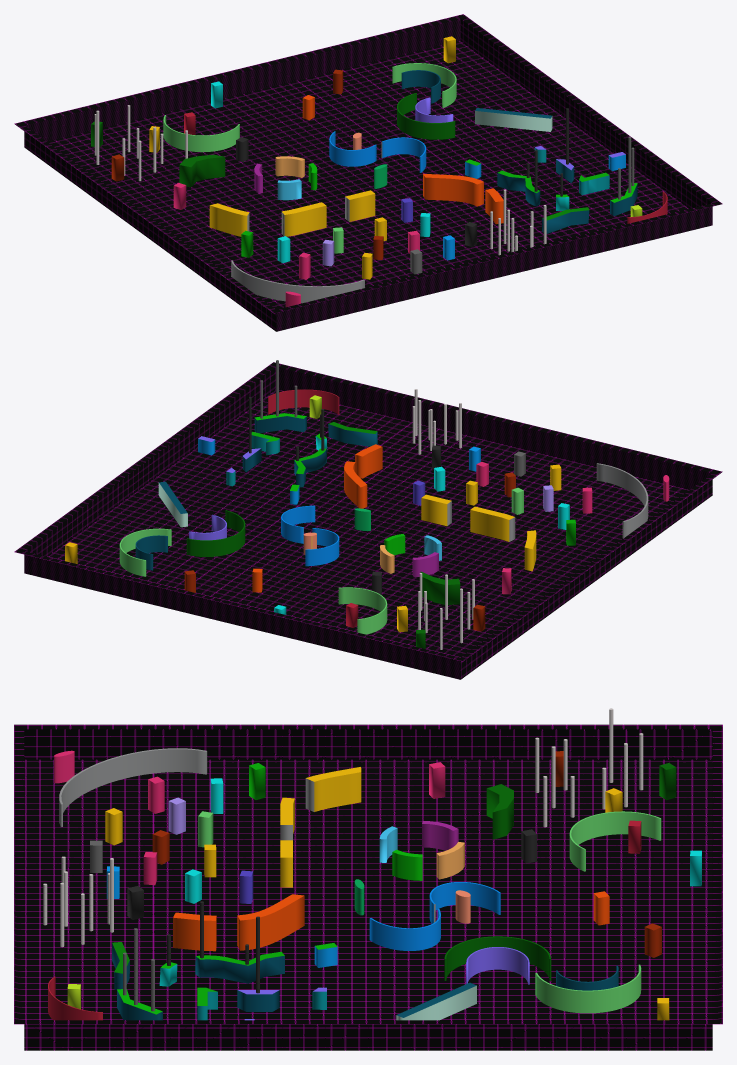
File: partycity.glb
The picture shows the model from 3 angles, top to bottom: view 1: azimuth 30°, elevation 25°; view 2: azimuth 150°, elevation 25°; view 3: azimuth 270°, elevation 25°; orthographic projection. The views are drawn at different scales.
Visible parts, largest first — view 1: floor, walls, city, 1, 1.001, floor.002; view 2: floor, walls, city, 1, 1.001, floor.002, city.001; view 3: floor, walls, city, 1, 1.001, floor.002, city.001.
Boxes of the visible parts, x1,y1,x2,y2 form: floor: [47, 41, 689, 309]; walls: [14, 14, 722, 331]; city: [91, 38, 642, 307]; 1: [91, 36, 667, 295]; 1.001: [94, 106, 546, 255]; floor.002: [423, 174, 503, 224]; floor: [47, 389, 689, 657]; walls: [14, 362, 722, 679]; city: [65, 397, 669, 648]; 1: [65, 360, 669, 633]; 1.001: [412, 390, 474, 649]; floor.002: [344, 447, 382, 508]; city.001: [268, 390, 339, 414]; floor: [24, 759, 712, 1020]; walls: [14, 724, 722, 1050]; city: [54, 749, 701, 1020]; 1: [43, 708, 701, 1020]; 1.001: [43, 709, 643, 947]; floor.002: [173, 895, 304, 951]; city.001: [48, 977, 102, 1020].
Size of the model in its own units: 2060 by 306 by 2060.
3 materials, 3 textured.
